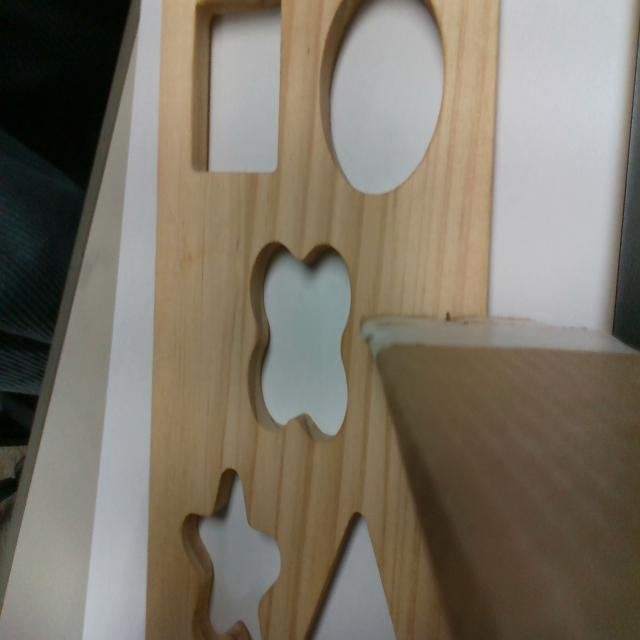circle: (317, 3, 444, 195)
flower: (248, 244, 351, 441)
square: (191, 1, 282, 174)
star: (181, 467, 283, 638)
triangle: (300, 507, 399, 637)
